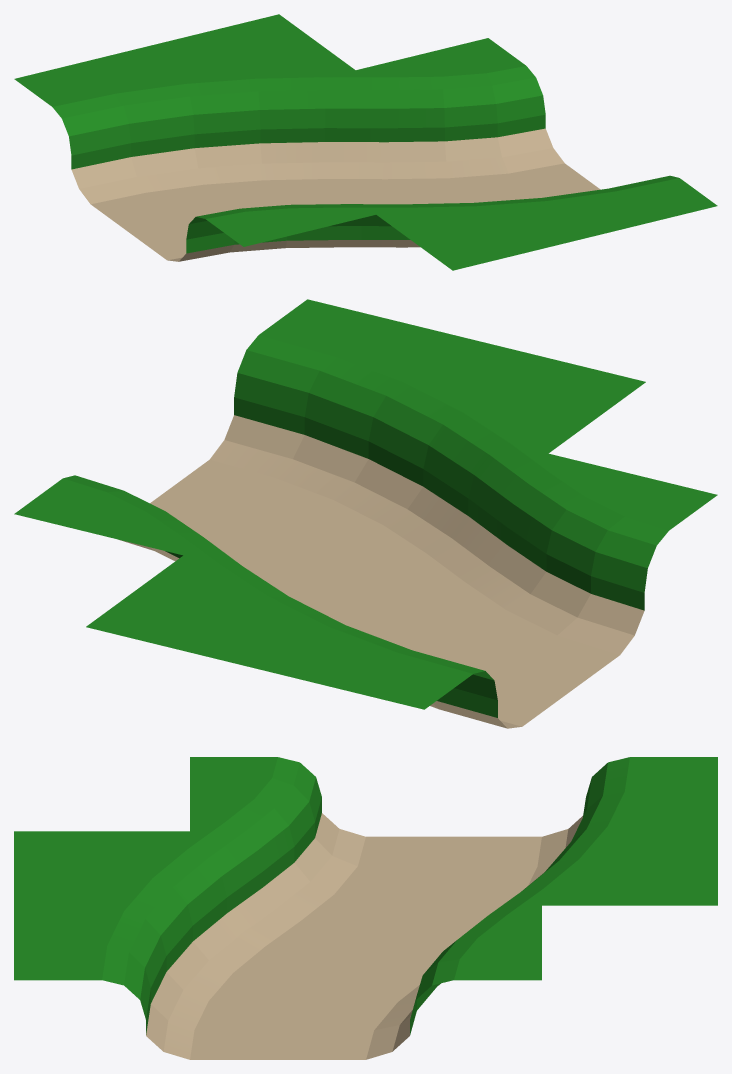
Rendered from Track_Standard_Esse_Single.obj.
The picture shows the model from 3 angles, top to bottom: view 1: azimuth 30°, elevation 25°; view 2: azimuth 150°, elevation 25°; view 3: azimuth 270°, elevation 25°; orthographic projection. The views are drawn at different scales.
Visible parts, largest first — view 1: Grass, Dirt; view 2: Grass, Dirt; view 3: Grass, Dirt.
Boxes of the visible parts, <box> form: Grass: <box>14,14,717,270</box>; Dirt: <box>71,128,600,261</box>; Grass: <box>14,299,717,717</box>; Dirt: <box>120,415,644,728</box>; Grass: <box>14,757,717,1034</box>; Dirt: <box>146,813,582,1059</box>.
Bounding box in the file's own units: 3 × 0.5 × 4.
